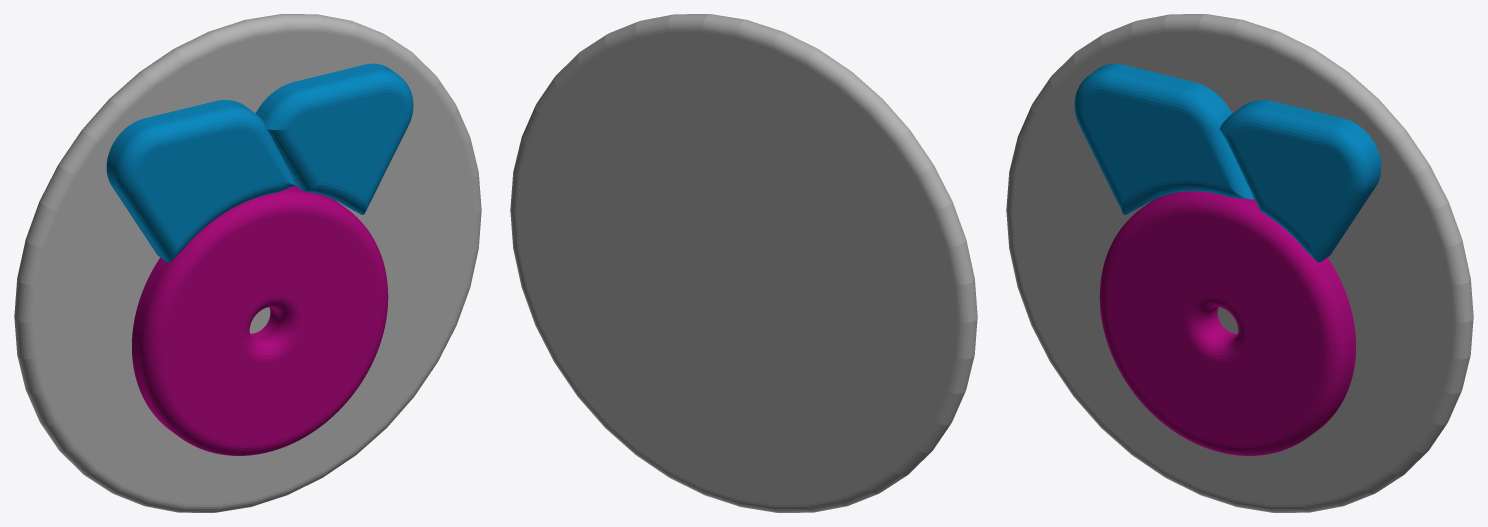
Rendered from award-4.glb.
The picture shows the model from 3 angles, left to right: view 1: azimuth 30°, elevation 25°; view 2: azimuth 150°, elevation 25°; view 3: azimuth 330°, elevation 25°; orthographic projection.
Visible parts, largest first — view 1: Mesh_3.001, Mesh_0.003, Mesh_1.003, Mesh_2.003; view 2: Mesh_3.001; view 3: Mesh_3.001, Mesh_0.003, Mesh_1.003, Mesh_2.003.
Part boxes in pixels (bbox=[...]): Mesh_3.001: bbox=[14, 14, 481, 512]; Mesh_0.003: bbox=[132, 185, 388, 455]; Mesh_1.003: bbox=[106, 100, 296, 262]; Mesh_2.003: bbox=[255, 63, 413, 214]; Mesh_3.001: bbox=[510, 14, 977, 512]; Mesh_3.001: bbox=[1006, 14, 1473, 512]; Mesh_0.003: bbox=[1099, 191, 1355, 455]; Mesh_1.003: bbox=[1074, 63, 1254, 214]; Mesh_2.003: bbox=[1219, 100, 1381, 262].
Size of the model in its own units: 42.01 by 42.01 by 4.77.
